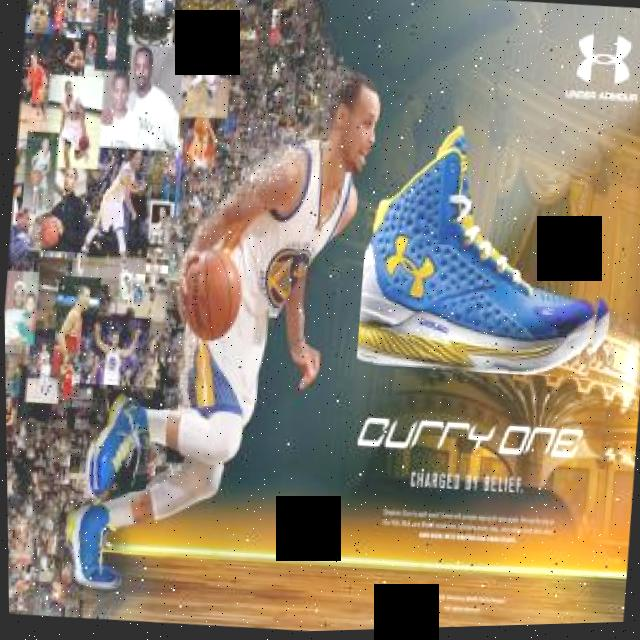shoe: (352, 117, 625, 388), (83, 386, 153, 494), (58, 499, 128, 590)
